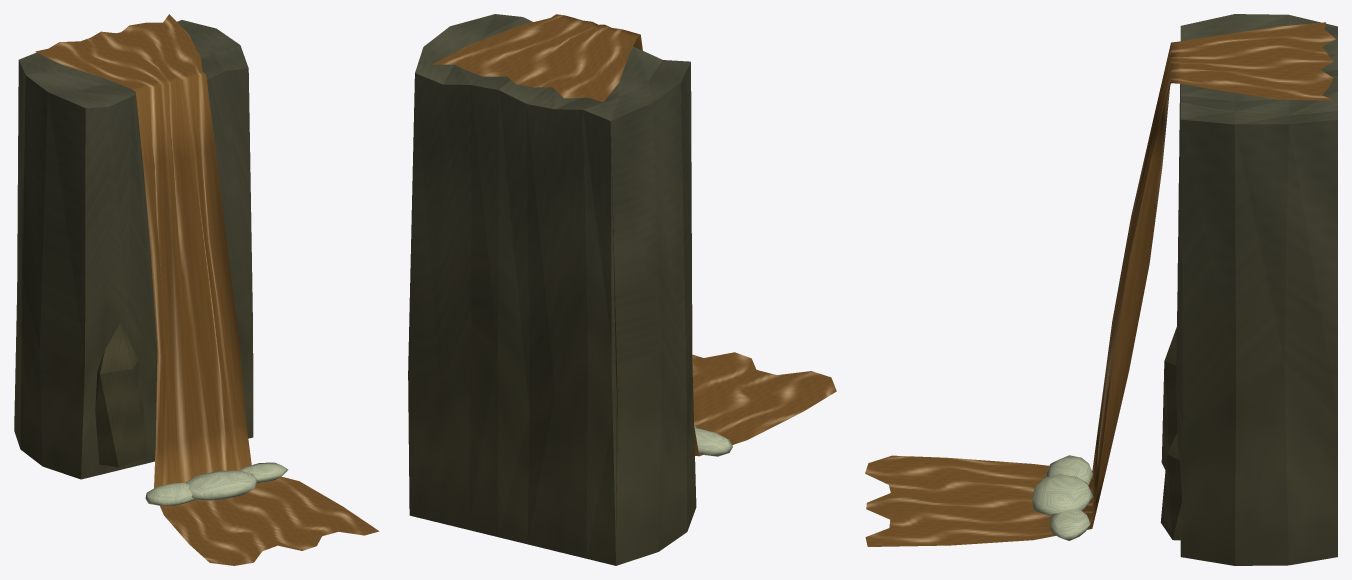
Rendered from fall-hukou-lod0.glb.
The picture shows the model from 3 angles, left to right: view 1: azimuth 30°, elevation 25°; view 2: azimuth 150°, elevation 25°; view 3: azimuth 270°, elevation 25°; orthographic projection. The views are drawn at different scales.
Size of the model in its own units: 0.5644 by 1 by 0.9629.
Materials: 1 (1 with a texture image).
